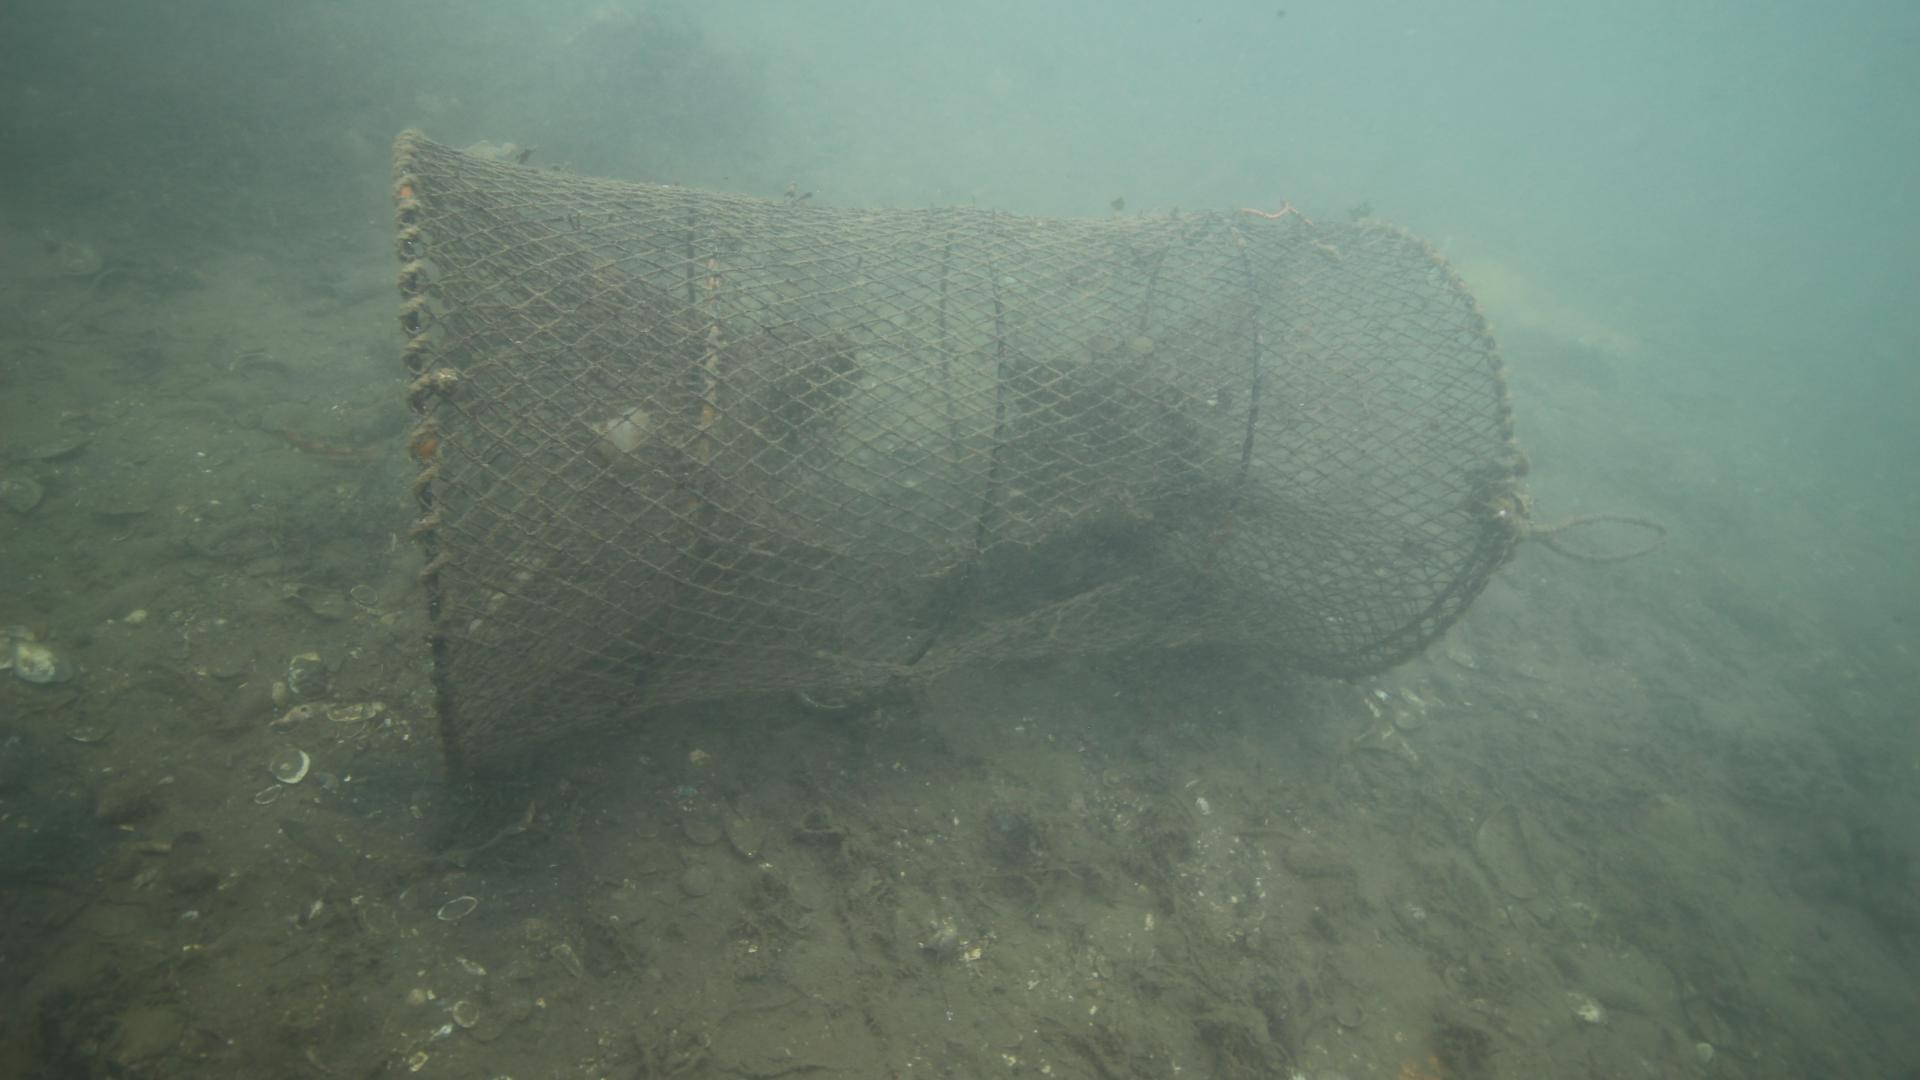bundle of ropes: (1523, 509, 1671, 574)
spring fish trap: (386, 119, 1523, 785)
